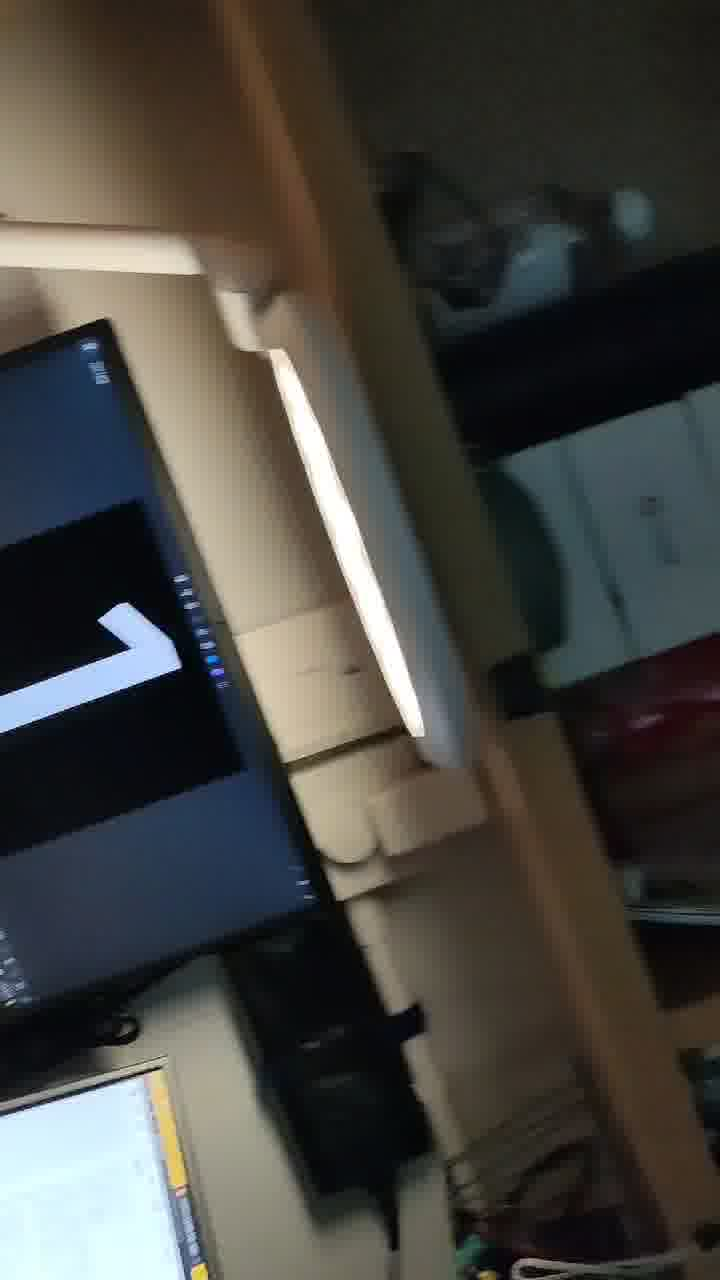one: (1, 452, 247, 809)
